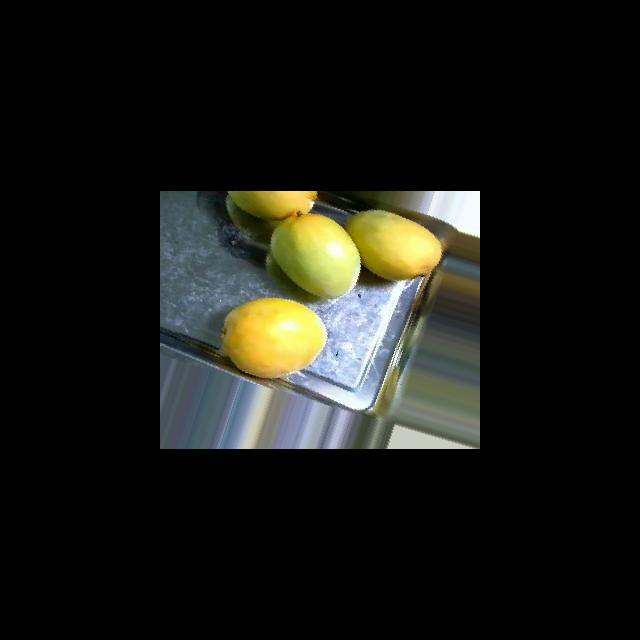mango: (220, 297, 327, 379), (269, 213, 361, 299), (345, 208, 442, 280), (225, 191, 317, 220)
